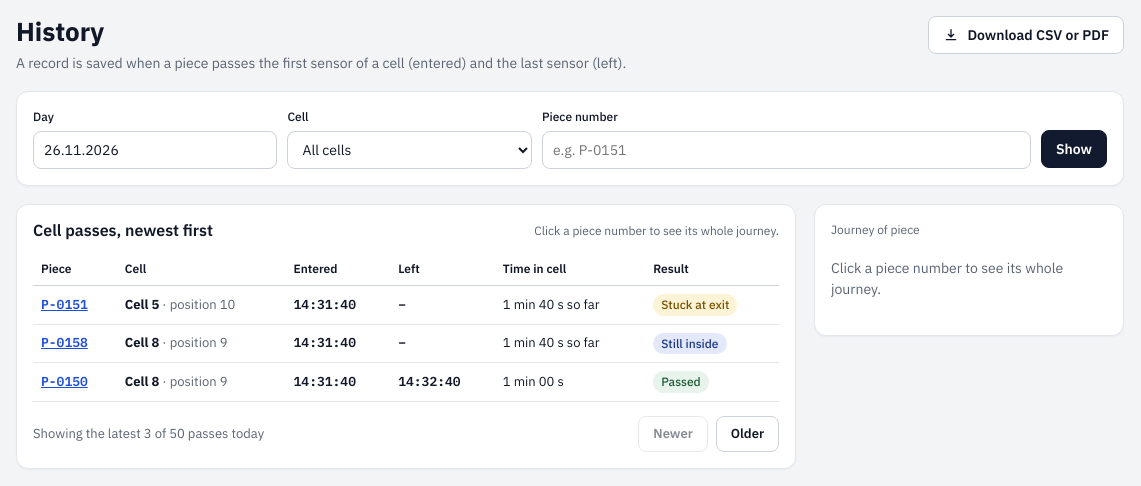
Test: History refresh › never lets a late refresh of page 1 replace the page the user moved to
The width and height of the screenshot is (1141, 486).
Expected: the text "Showing the latest 3 of 50 passes today" is shown, [33,425,264,443]
Step 1. Click the button "Older" → {"x": 747, "y": 434}, box [716,416,779,452]
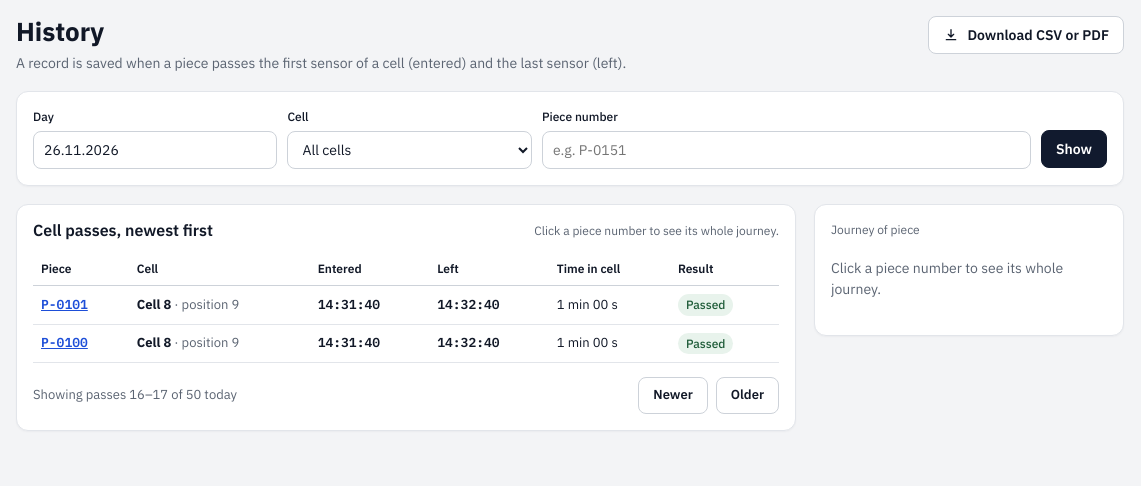
Result: the text "Showing passes 16–17 of 50 today" is shown at [33,386,237,405]
